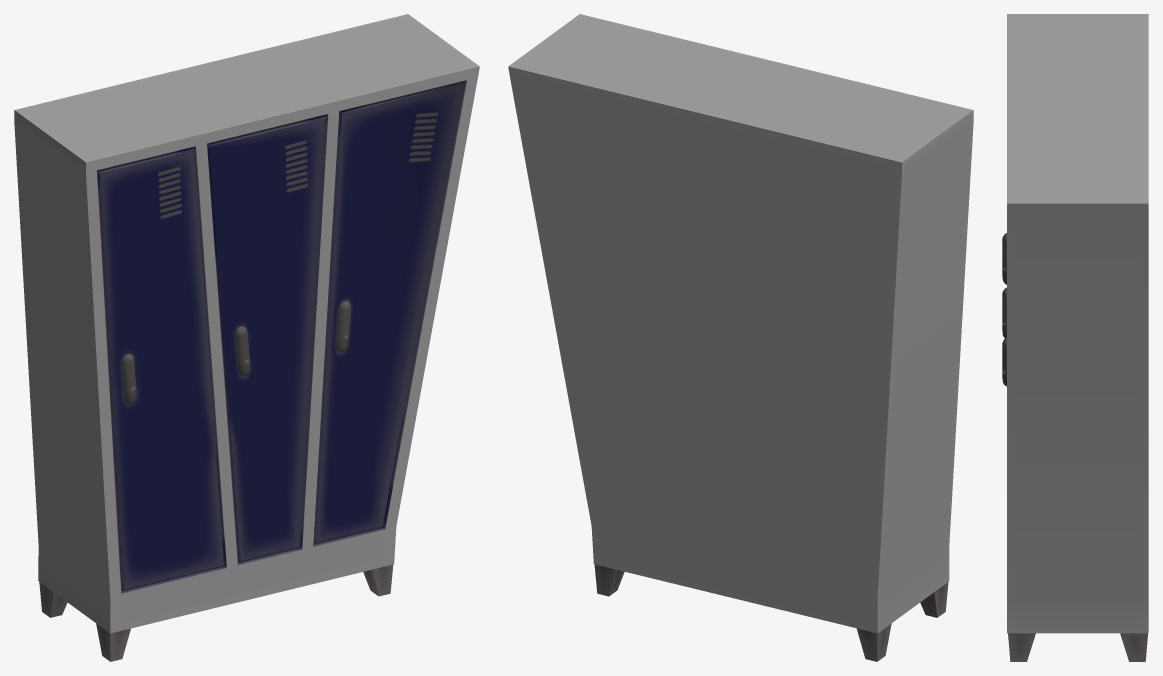
File: locker_01_V3.FBX
3 renders of one model, left to right at view 1: azimuth 30°, elevation 25°; view 2: azimuth 150°, elevation 25°; view 3: azimuth 270°, elevation 25°, orthographic.
Parts seen in each view (by area): view 1: MESH_locker_01_V3; view 2: MESH_locker_01_V3; view 3: MESH_locker_01_V3.
Part boxes in pixels (box(x1,y1,x2,y2)): MESH_locker_01_V3: box(14, 14, 479, 661); MESH_locker_01_V3: box(508, 14, 973, 661); MESH_locker_01_V3: box(1002, 14, 1148, 661).
Bounding box in the file's own units: 143 × 176 × 46.53.
